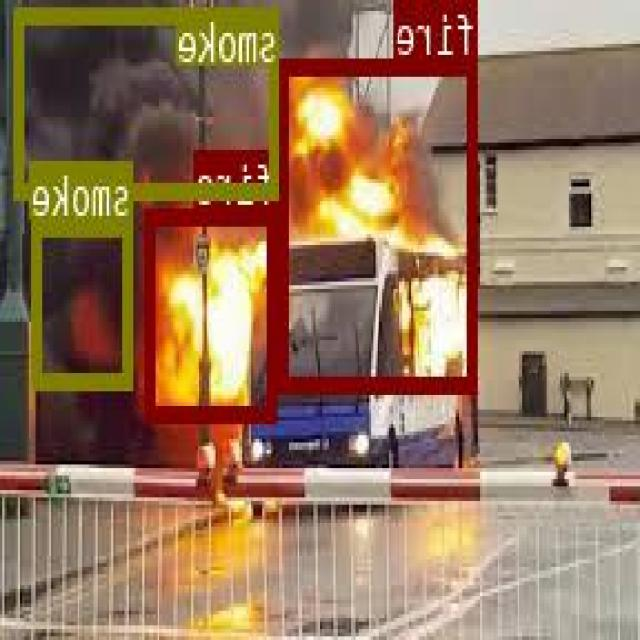fire: (280, 58, 480, 390), (147, 205, 280, 419)
smoke: (18, 5, 282, 196), (35, 218, 135, 386)
